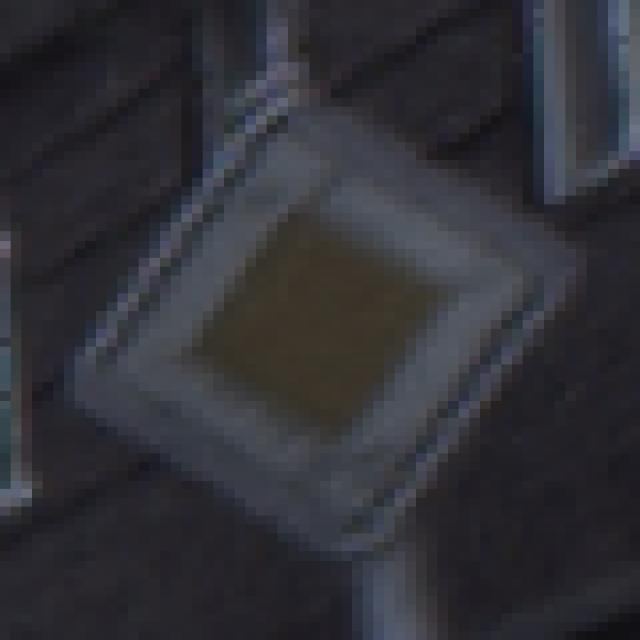Main Road: (65, 63, 588, 588)
